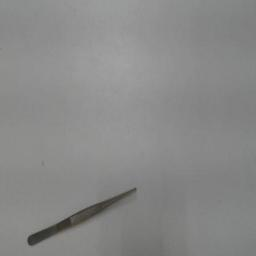Gillies Toothed Dissector: (18, 181, 140, 249)
